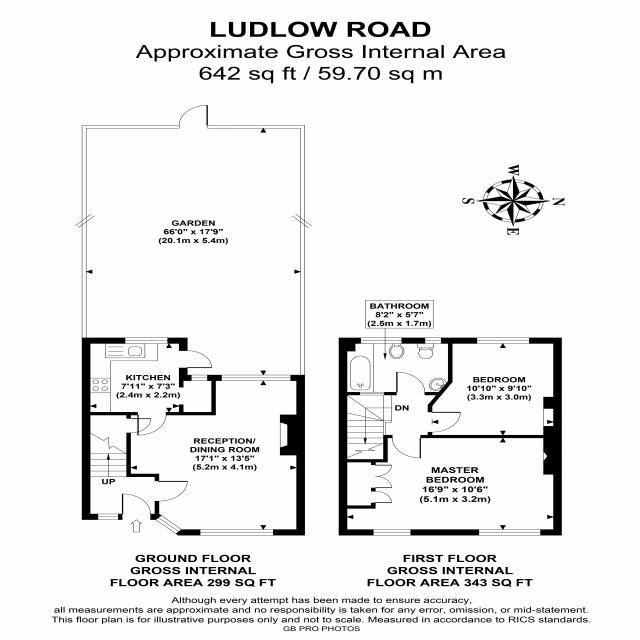DOOR: (121, 493, 152, 521), (154, 480, 189, 502), (391, 435, 422, 459), (395, 371, 426, 395), (428, 411, 461, 433), (137, 412, 167, 436), (178, 350, 213, 369), (126, 418, 152, 434)
ROOM: (126, 374, 306, 536), (338, 435, 562, 536), (427, 337, 562, 438), (81, 337, 217, 436)
WINDOW: (154, 515, 183, 535), (199, 529, 274, 536), (478, 529, 541, 536), (221, 375, 291, 381), (476, 337, 530, 344), (124, 337, 168, 344), (360, 337, 402, 344), (372, 529, 412, 536), (97, 513, 119, 520), (191, 374, 208, 381), (425, 337, 442, 344), (359, 392, 385, 396)
